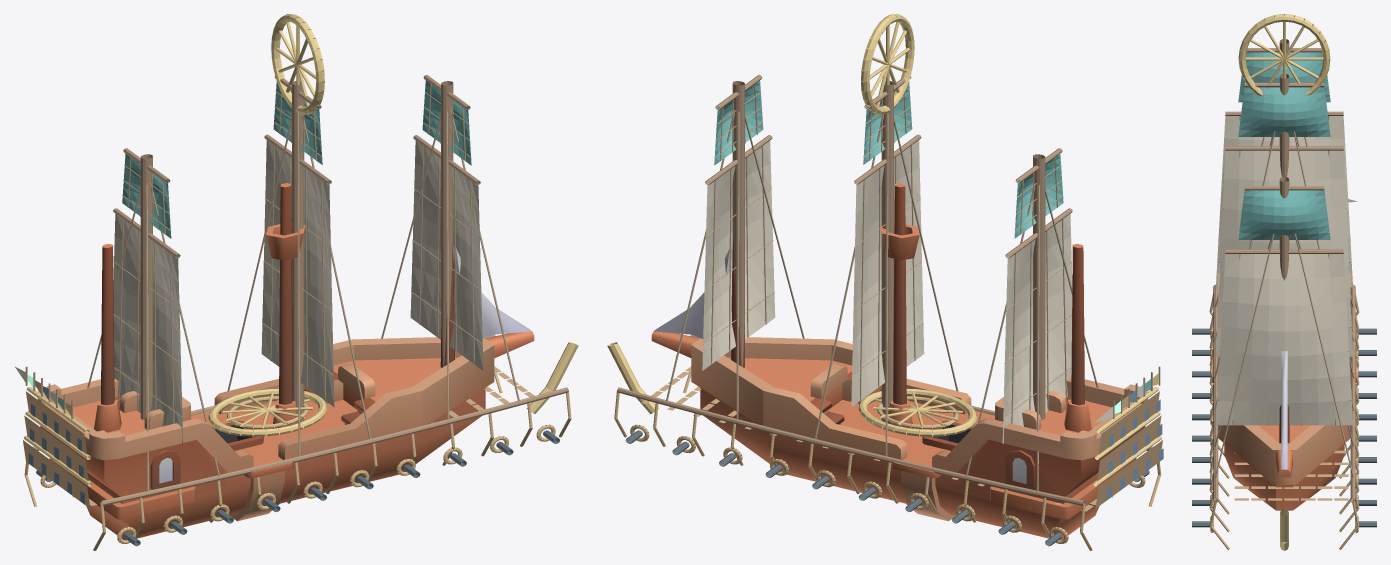
File: astheria_flagship-custom.glb
3 views of the same model, side by side, from view 1: azimuth 30°, elevation 25°; view 2: azimuth 150°, elevation 25°; view 3: azimuth 270°, elevation 25° (orthographic). The views are drawn at different scales.
Parts seen in each view (by area): view 1: astheria_flagship-custom-geometry, ship-large; view 2: astheria_flagship-custom-geometry, ship-large; view 3: astheria_flagship-custom-geometry, ship-large.
Boxes of the visible parts, x1,y1,x2,y2 form: astheria_flagship-custom-geometry: [14, 14, 578, 550]; ship-large: [37, 183, 534, 540]; astheria_flagship-custom-geometry: [607, 14, 1163, 550]; ship-large: [651, 183, 1147, 540]; astheria_flagship-custom-geometry: [1192, 14, 1376, 550]; ship-large: [1212, 237, 1356, 510].
Size of the model in its own units: 52.96 by 45 by 17.
Materials: 12 (1 with a texture image).
